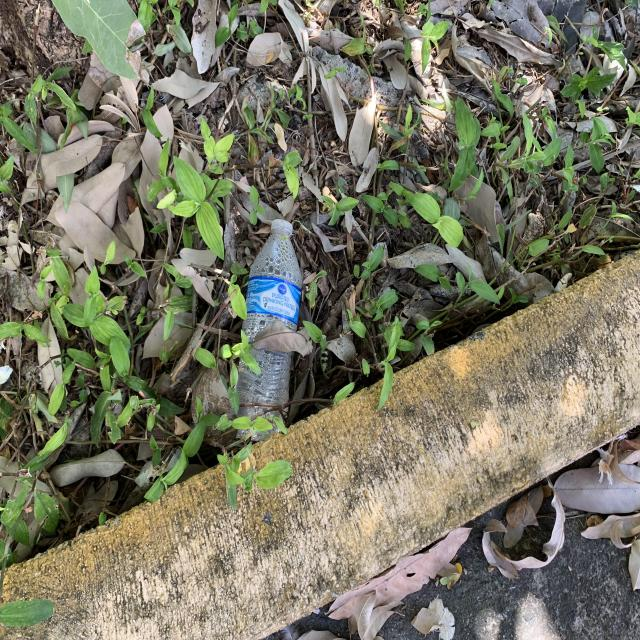litter: (234, 223, 299, 443)
